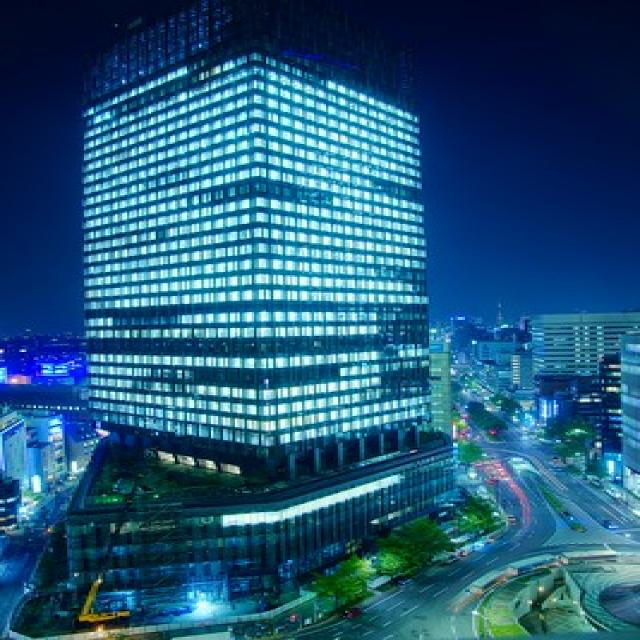Normal_building: (71, 1, 464, 553)
